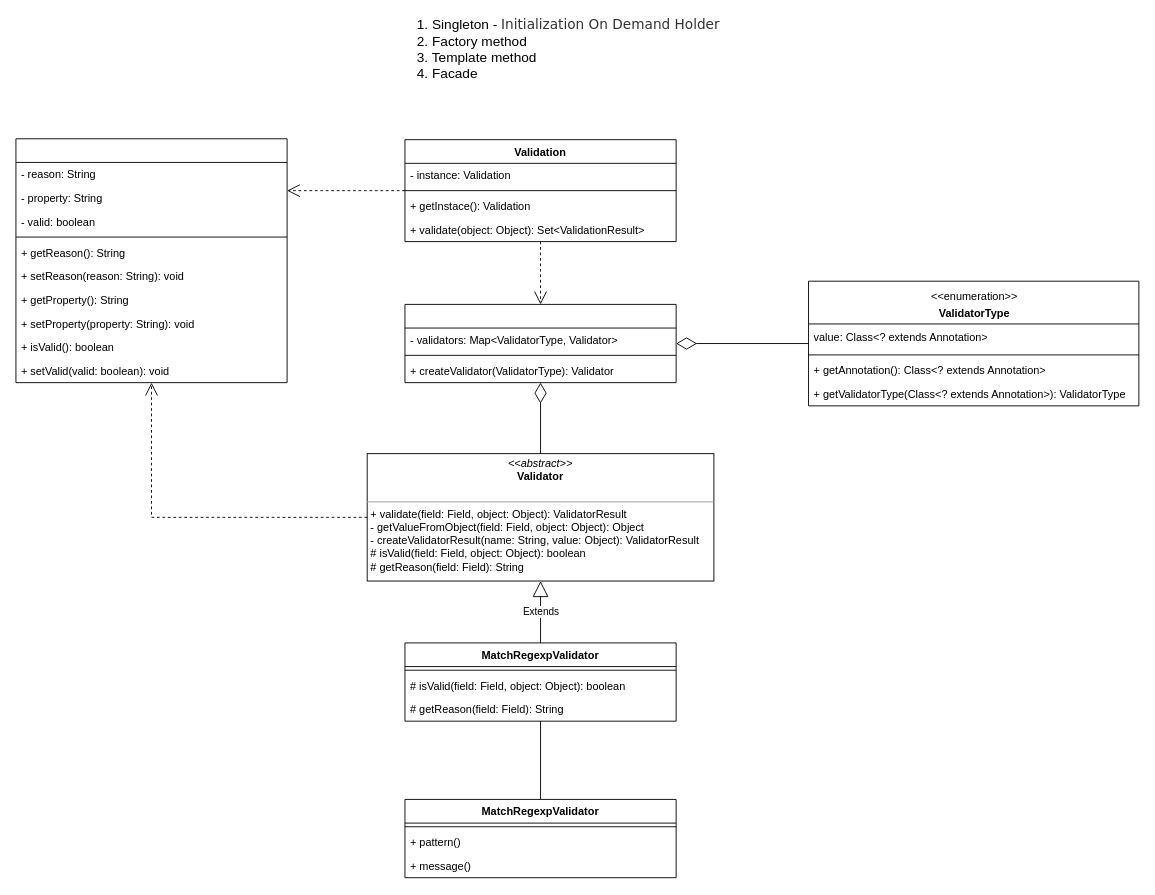
This 1155x895 diagram has some shape labels left out. The shapes that lost their labels are listed below. From the top down, each one's box as (x1, y1, x2, y2) in pixels, then its label:
(15, 138, 287, 383): ValidatorResult
(404, 303, 676, 383): ValidatorFactory
